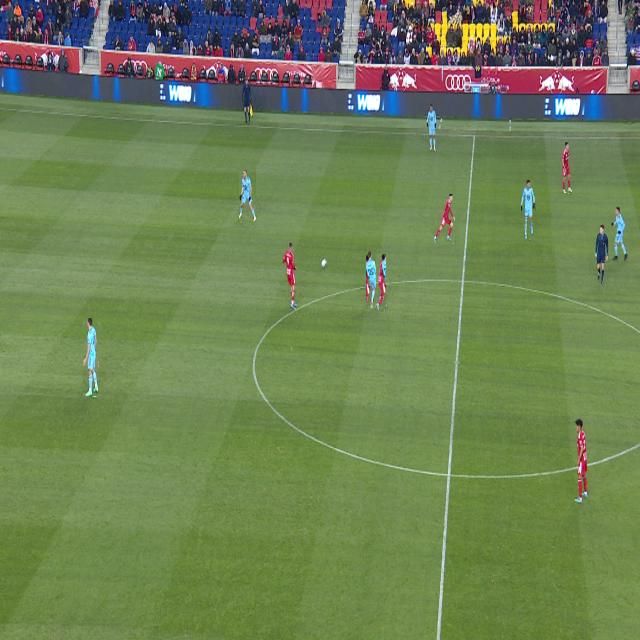football: (321, 259, 327, 268)
player: (84, 318, 98, 396), (434, 195, 455, 243), (575, 420, 587, 502), (283, 243, 297, 310), (239, 171, 256, 222), (366, 251, 381, 308), (521, 181, 535, 239), (612, 208, 627, 260), (377, 254, 386, 310), (562, 143, 572, 193), (427, 105, 436, 151)
referee: (595, 225, 608, 283)
